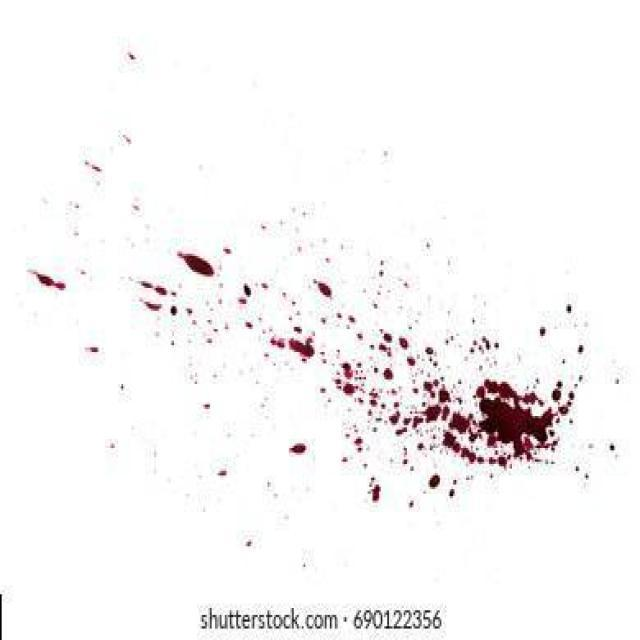knife: (478, 397, 527, 447), (176, 252, 214, 277), (526, 409, 553, 443), (34, 270, 66, 293), (288, 337, 315, 358), (449, 412, 470, 434), (313, 278, 332, 298), (497, 381, 516, 401), (522, 436, 535, 464), (287, 442, 309, 456), (425, 405, 441, 424), (483, 377, 499, 395), (511, 437, 524, 458), (459, 448, 477, 463), (536, 442, 559, 453), (443, 430, 456, 449), (371, 483, 381, 504), (270, 335, 284, 349), (523, 392, 537, 406), (438, 389, 451, 404), (144, 300, 160, 312), (398, 335, 410, 351), (411, 416, 425, 429), (557, 403, 571, 416), (367, 391, 378, 407), (341, 361, 351, 378), (468, 431, 481, 444), (387, 411, 399, 425), (342, 383, 354, 396), (551, 388, 562, 402), (429, 474, 440, 488), (475, 385, 485, 399), (383, 368, 393, 381), (153, 287, 167, 296), (423, 381, 433, 392), (450, 443, 461, 453), (383, 333, 393, 343), (406, 357, 416, 367), (498, 456, 507, 466), (400, 416, 410, 425), (140, 281, 152, 288), (238, 298, 248, 306), (378, 343, 386, 352), (355, 436, 362, 445)
